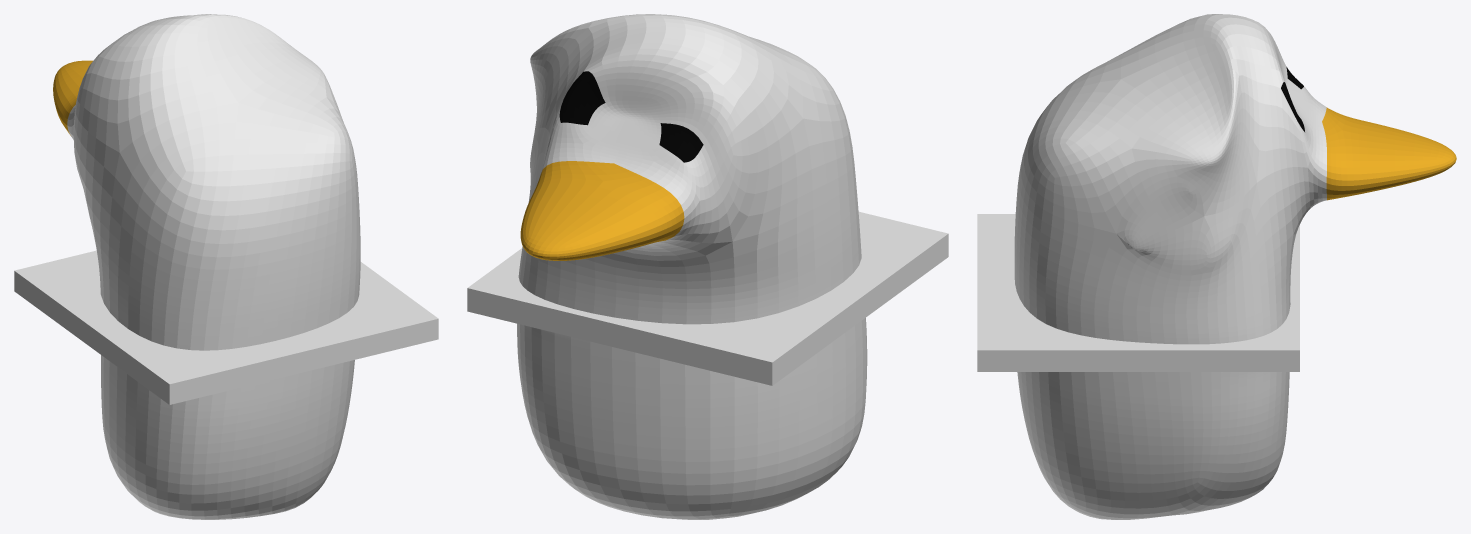
Rendered from sliced duck.fbx.
3 renders of one model, left to right at view 1: azimuth 30°, elevation 25°; view 2: azimuth 150°, elevation 25°; view 3: azimuth 270°, elevation 25°, orthographic. The views are drawn at different scales.
Parts seen in each view (by area): view 1: Cube, Duck Slicer; view 2: Cube, Duck Slicer; view 3: Cube, Duck Slicer.
Boxes of the visible parts, left/top/right/bottom form: Cube: left=53, top=14, right=360, bottom=519; Duck Slicer: left=14, top=250, right=438, bottom=404; Cube: left=517, top=14, right=867, bottom=519; Duck Slicer: left=467, top=211, right=948, bottom=385; Cube: left=1014, top=14, right=1456, bottom=519; Duck Slicer: left=977, top=214, right=1299, bottom=371.
Bounding box in the file's own units: 207 × 330 × 307.
